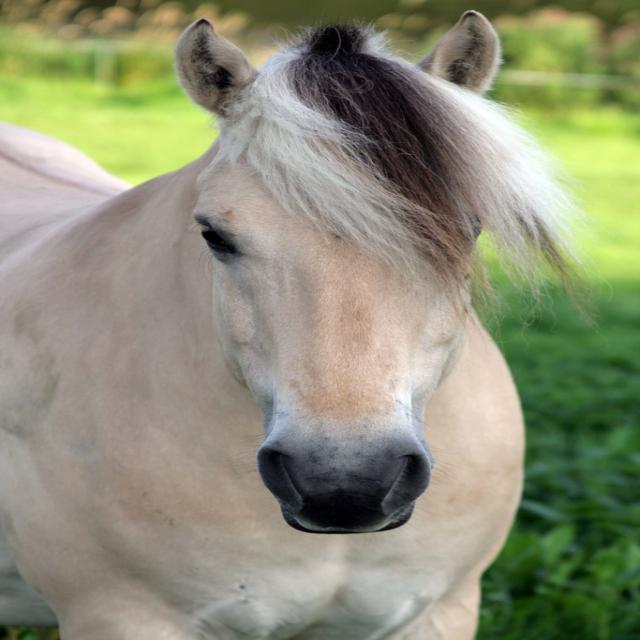Horse: (0, 7, 603, 639)
